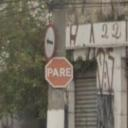Pare: (45, 58, 74, 88)
